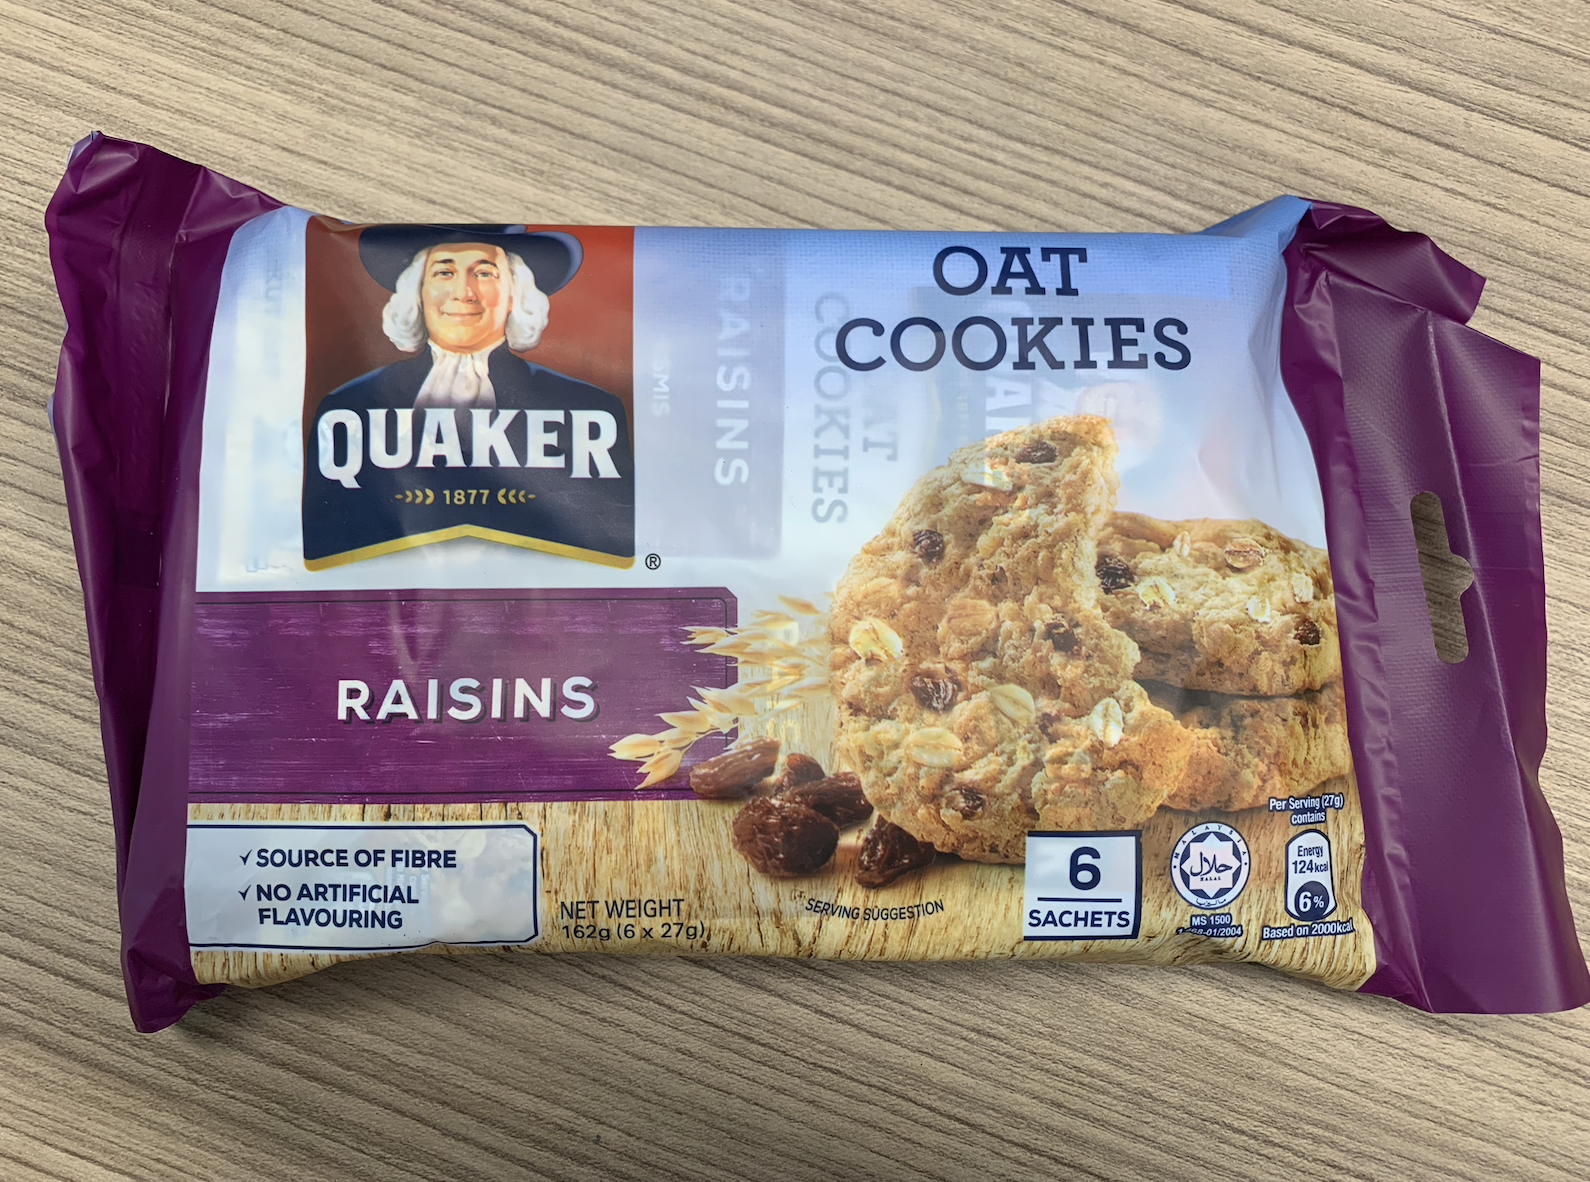cookies_100g-199g: (156, 240, 1384, 949)
